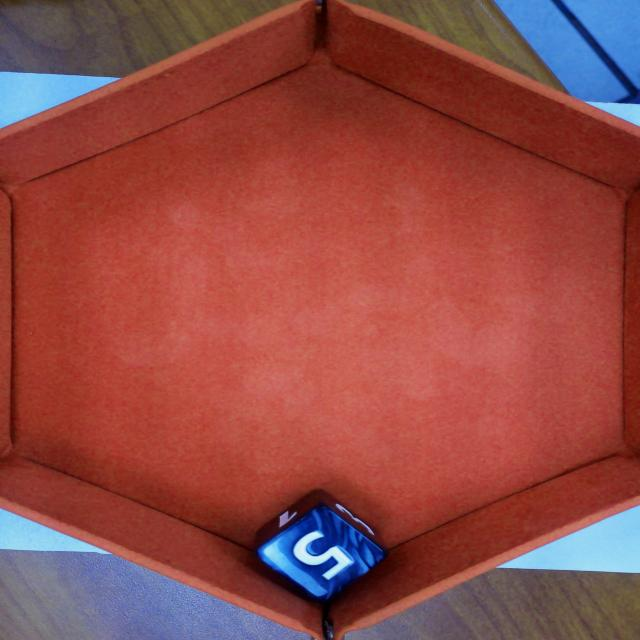dice: (265, 508, 384, 597)
